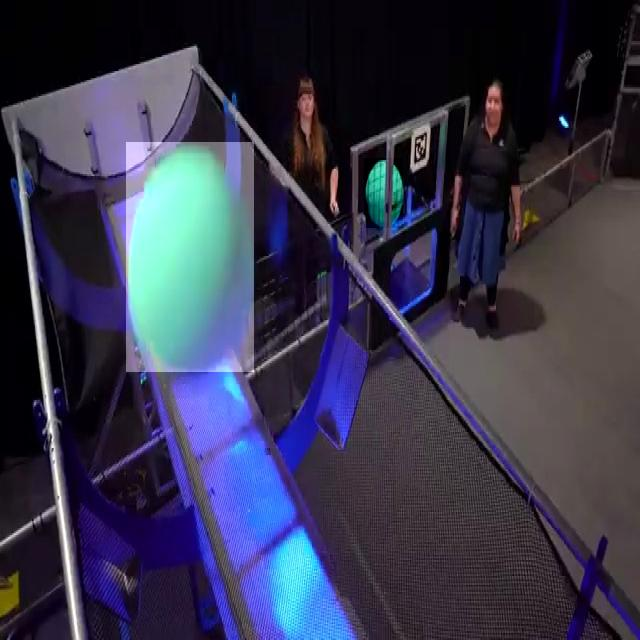Algae: (126, 142, 254, 372), (364, 158, 403, 228)
